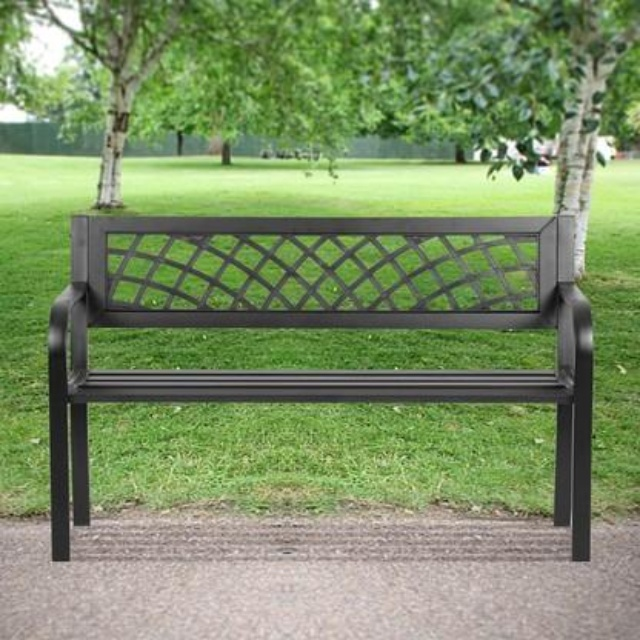obstacle: (35, 203, 605, 580)
